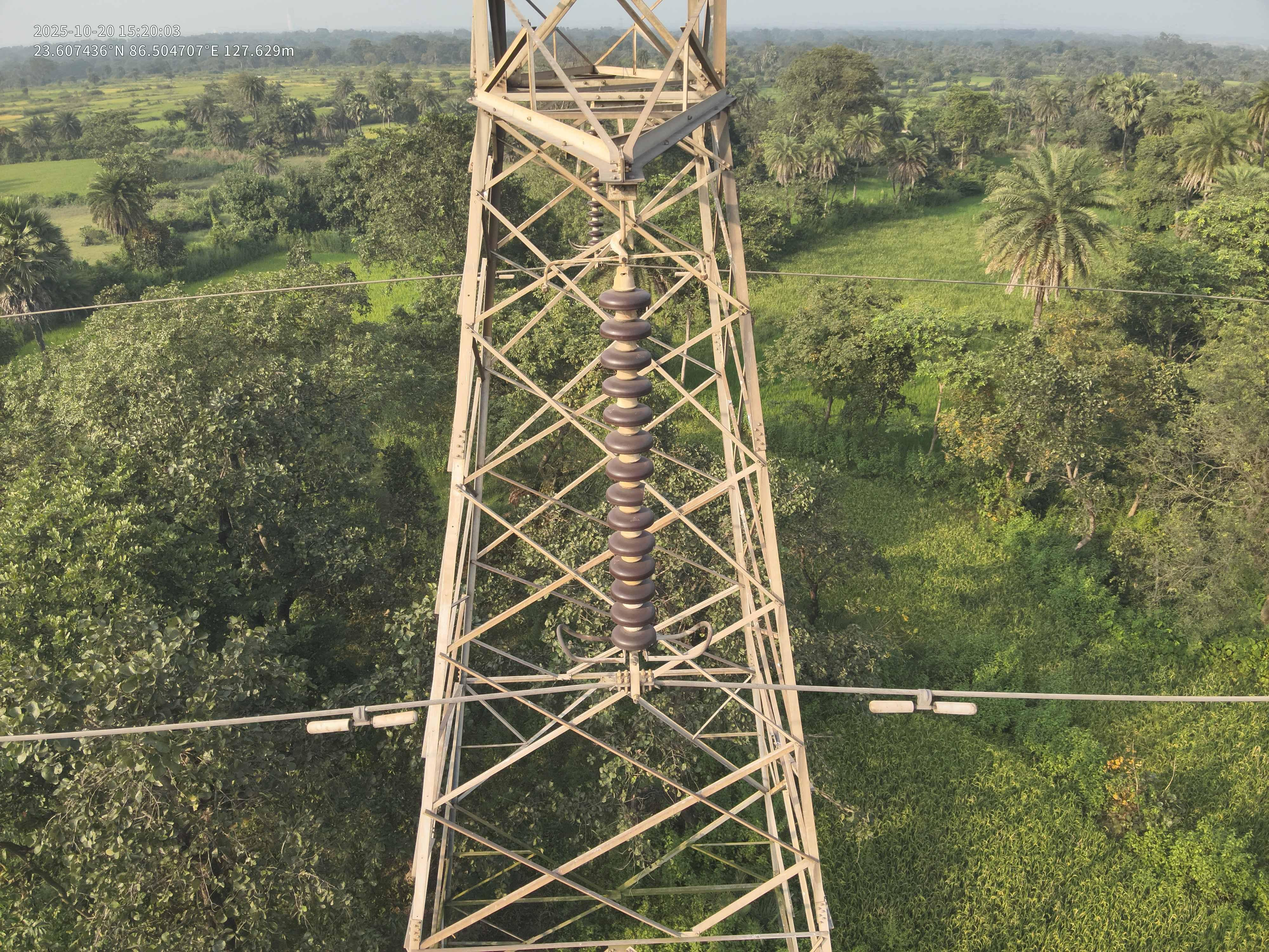broken_insulator: (605, 481, 654, 508)
